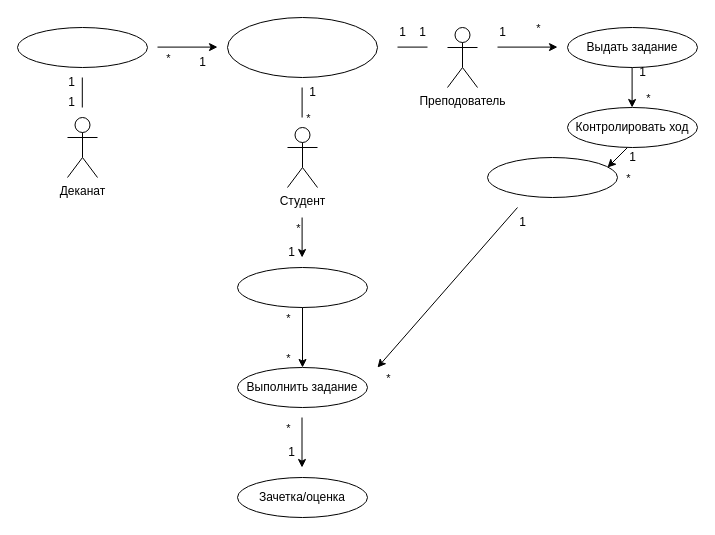
This 715x535 diagram has some shape labels left out. The box of each missing label's shape, as (x1, y1, x2, y2) in pixels:
Выбрать дисциплину Студент/Преподователь: (226, 16, 378, 78)
Начать семестр: (16, 26, 148, 68)
Оценить результат: (486, 156, 618, 198)
Проверить расписание: (236, 266, 368, 308)
